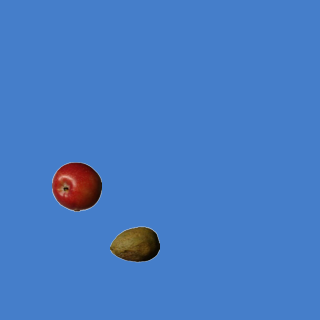Apple Braeburn: (51, 161, 101, 211)
Papaya: (109, 219, 159, 269)
